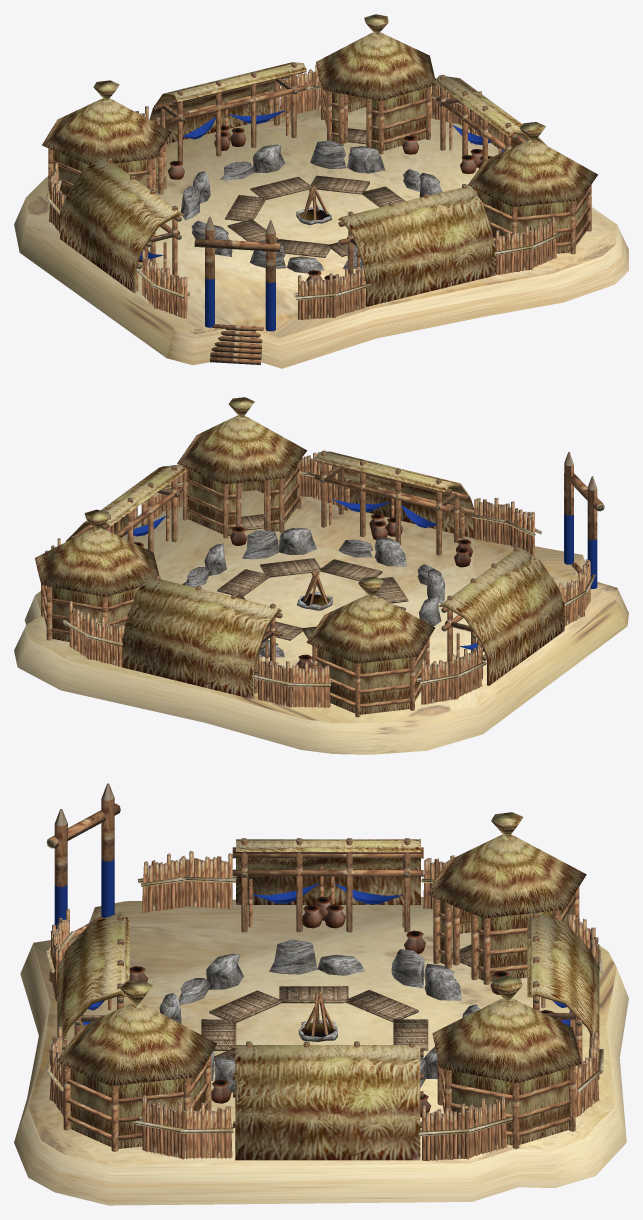
Rendered from wonder.dae.
3 renders of one model, top to bottom at view 1: azimuth 30°, elevation 25°; view 2: azimuth 150°, elevation 25°; view 3: azimuth 270°, elevation 25°, orthographic. The views are drawn at different scales.
Visible parts, largest first — view 1: wonder; view 2: wonder; view 3: wonder.
Part boxes in pixels (x1=…): wonder: x1=14, y1=14, x2=628, y2=368; wonder: x1=14, y1=397, x2=628, y2=754; wonder: x1=14, y1=783, x2=628, y2=1205.
Size of the model in its own units: 40.85 by 38.05 by 11.44.
